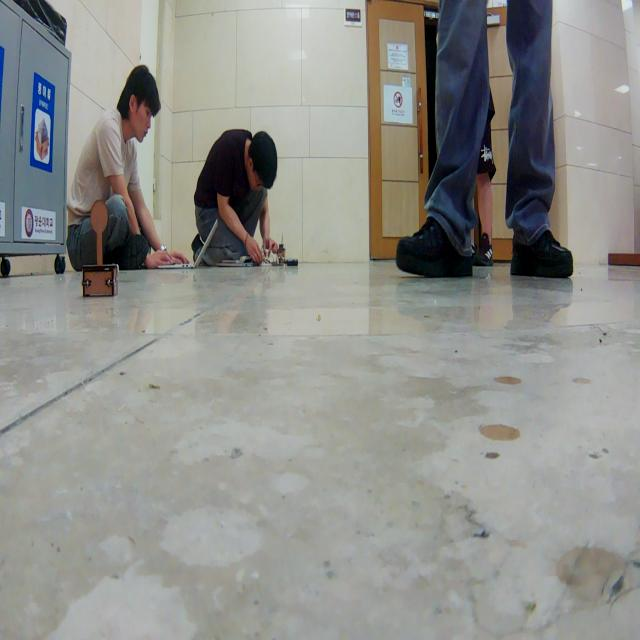target: (80, 200, 118, 298)
